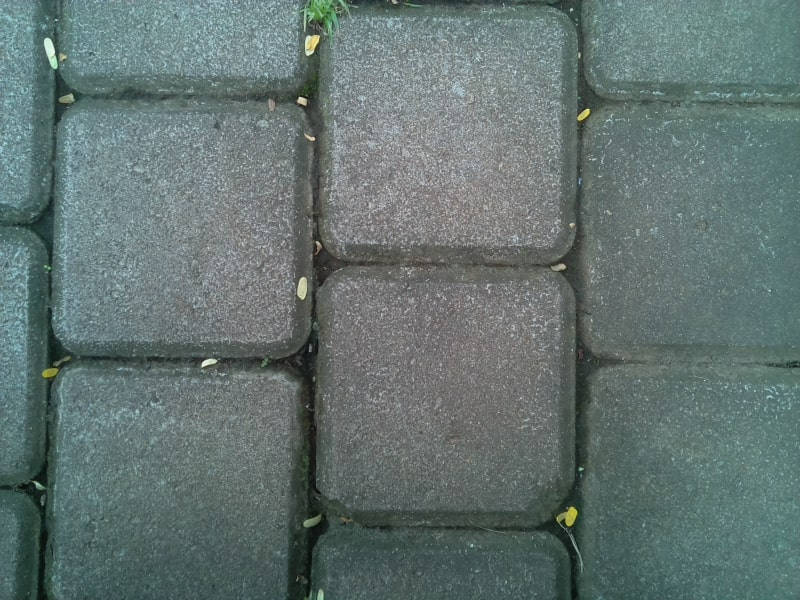Weed: (298, 1, 354, 39), (36, 260, 57, 284), (257, 353, 272, 373)
